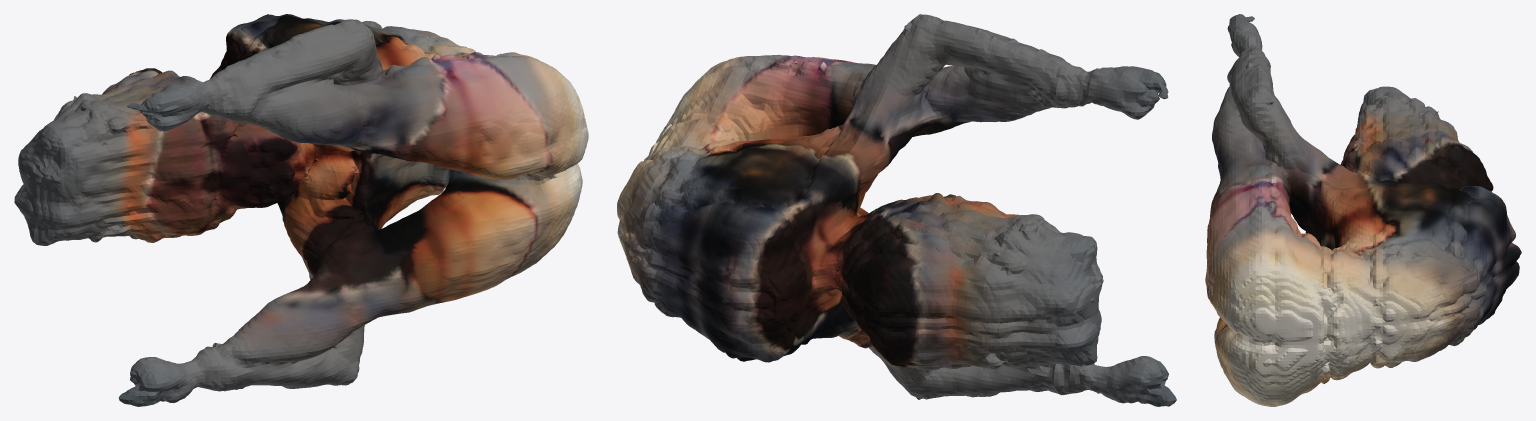
The model's file is triposr_test-2.obj.
3 renders of one model, left to right at view 1: azimuth 30°, elevation 25°; view 2: azimuth 150°, elevation 25°; view 3: azimuth 270°, elevation 25°, orthographic. The views are drawn at different scales.
Bounding box in the file's own units: 0.9757 × 0.7139 × 0.6613.
